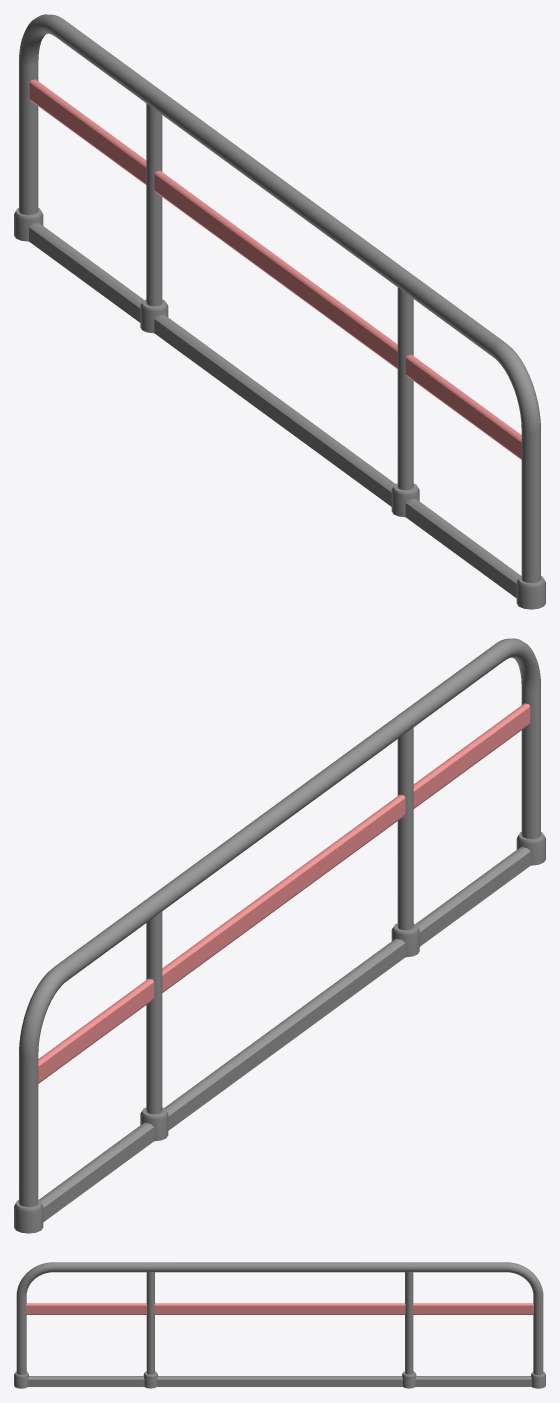
Rendered from S_Envi_Umeda_Module_18.gltf.
3 renders of one model, top to bottom at view 1: azimuth 30°, elevation 25°; view 2: azimuth 150°, elevation 25°; view 3: azimuth 270°, elevation 25°, orthographic. The views are drawn at different scales.
Visible parts, largest first — view 1: S_Envi_Umeda_Module_18; view 2: S_Envi_Umeda_Module_18; view 3: S_Envi_Umeda_Module_18.
Boxes of the visible parts, x1,y1,x2,y2 form: S_Envi_Umeda_Module_18: [14, 14, 545, 609]; S_Envi_Umeda_Module_18: [14, 638, 545, 1233]; S_Envi_Umeda_Module_18: [14, 1262, 545, 1388].
Size of the model in its own units: 0.1166 by 1.05 by 4.12.
